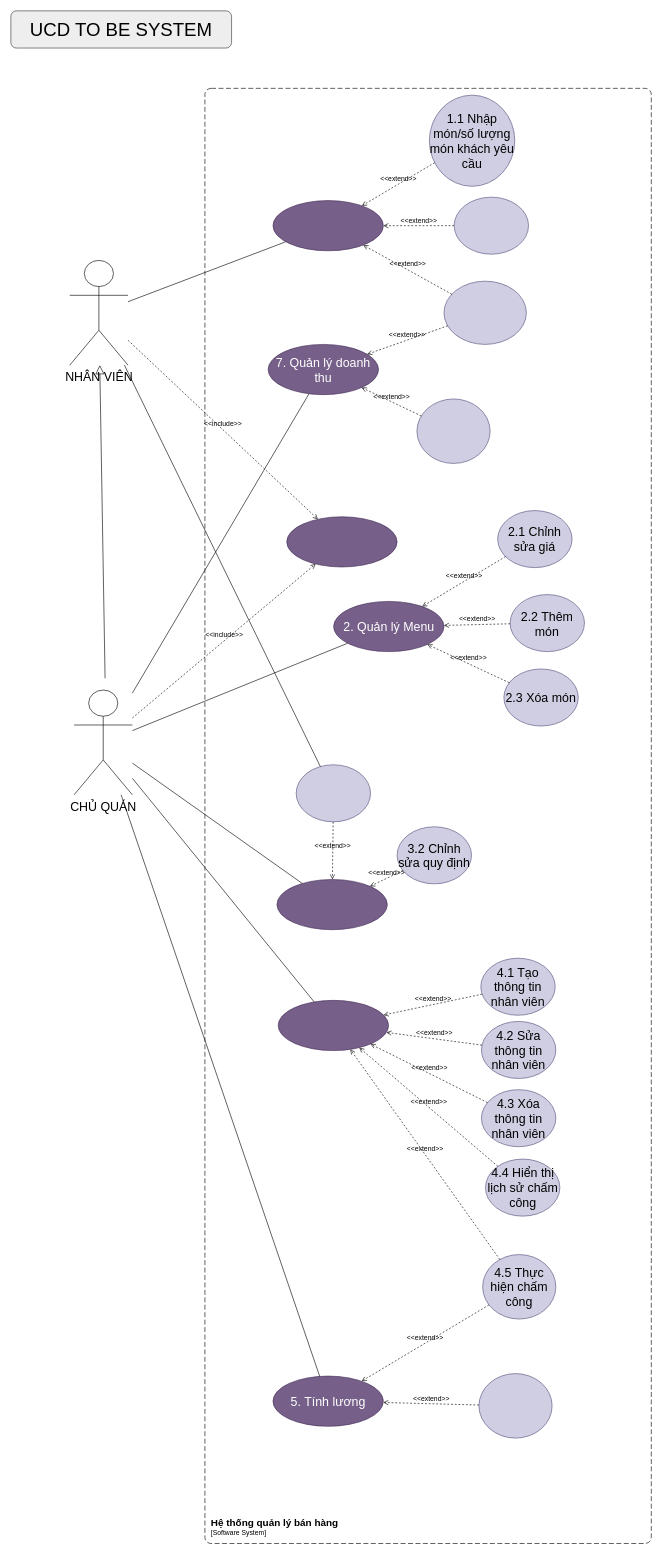
Some shapes in this 662 by 1554 pixel diagram are drawn without their labels. Here are the shapes that lost their labels. From the top down, the centre of each, then its label:
At [327,225]: "1.ORDER".
At [491,225]: "1.2 Hiển thị thông tin bàn".
At [484,312]: "1.3 Xác nhận thanh toán hóa đơn".
At [453,430]: "7.1 Hiển thị doanh thu một tháng".
At [341,541]: "6. Đăng nhập".
At [333,793]: "3.1 Hiển thị quy định".
At [331,904]: "3. Quản lý quy định".
At [333,1025]: "4. Chấm công".
At [515,1405]: "5.1 Hiển thị thông tin lương".
